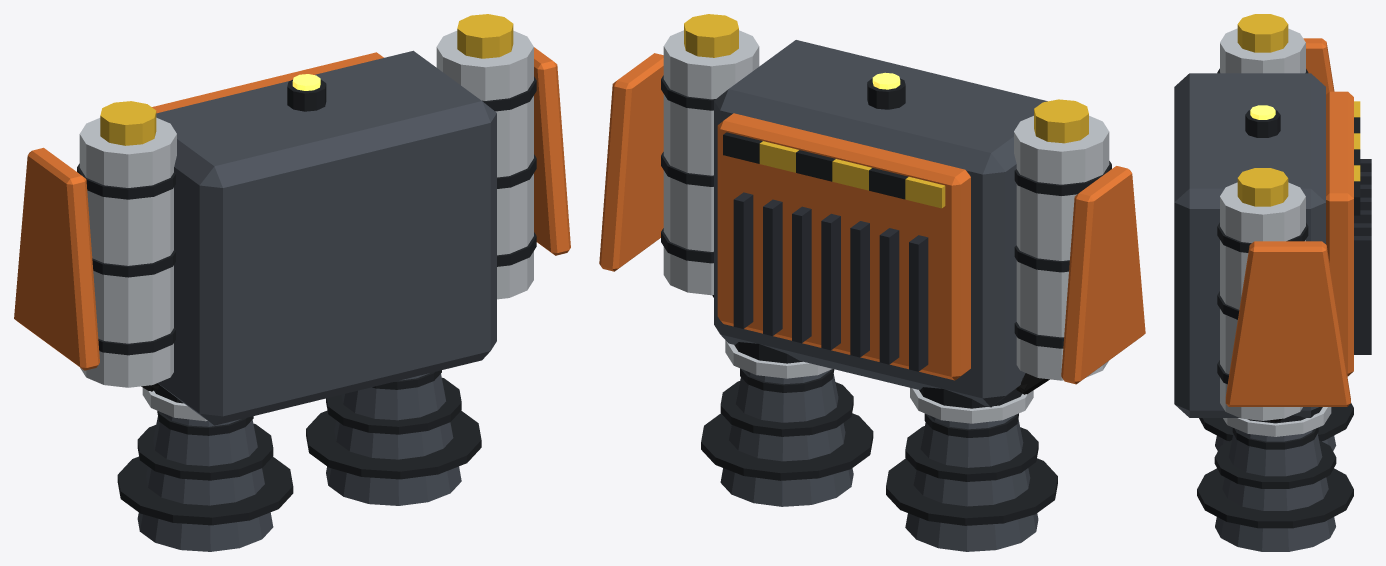
File: back_thruster_mk1.glb
3 views of the same model, side by side, from view 1: azimuth 30°, elevation 25°; view 2: azimuth 150°, elevation 25°; view 3: azimuth 270°, elevation 25° (orthographic). The views are drawn at different scales.
Parts seen in each view (by area): view 1: pack_body, fuel_tank_R, fin_R, fuel_tank_L, nozzle_R, nozzle_L, nozzle_ribs_R, nozzle_ribs_L, fin_L, fuel_tank_bands_R, fuel_tank_cap_L, fuel_tank_cap_R (+4 smaller); view 2: pack_body, armor_pack_cover, pack_fins, fin_R, fuel_tank_R, fuel_tank_L, fin_L, nozzle_L, nozzle_R, nozzle_ribs_R, nozzle_ribs_L, pack_stripe_y (+10 smaller); view 3: pack_body, fin_L, nozzle_L, nozzle_ribs_L, fuel_tank_L, armor_pack_cover, pack_fins, fuel_tank_R, fuel_tank_cap_L, fuel_tank_cap_R, nozzle_gimbal_L, nozzle_ribs_R (+6 smaller).
Boxes of the visible parts, box(x1,y1,x2,y2) form: pack_body: box(156, 50, 496, 425); fuel_tank_R: box(79, 117, 176, 387); fin_R: box(14, 147, 99, 370); fuel_tank_L: box(436, 30, 533, 299); nozzle_R: box(137, 413, 273, 551); nozzle_L: box(326, 373, 461, 505); nozzle_ribs_R: box(117, 411, 293, 525); nozzle_ribs_L: box(306, 370, 481, 479); fin_L: box(534, 47, 570, 255); fuel_tank_bands_R: box(77, 163, 175, 355); fuel_tank_cap_L: box(457, 14, 513, 58); fuel_tank_cap_R: box(100, 101, 156, 145); pack_body: box(714, 40, 1047, 407); armor_pack_cover: box(717, 113, 970, 380); pack_fins: box(733, 192, 928, 371); fin_R: box(1061, 166, 1145, 384); fuel_tank_R: box(1014, 115, 1109, 380); fuel_tank_L: box(663, 30, 759, 295); fin_L: box(599, 53, 663, 271); nozzle_L: box(720, 370, 853, 506); nozzle_R: box(905, 415, 1038, 551); nozzle_ribs_R: box(886, 413, 1057, 525); nozzle_ribs_L: box(701, 368, 873, 480); pack_stripe_y: box(759, 141, 945, 208); pack_body: box(1174, 73, 1325, 417); fin_L: box(1225, 241, 1350, 406); nozzle_L: box(1215, 430, 1335, 551); nozzle_ribs_L: box(1197, 427, 1353, 528); fuel_tank_L: box(1220, 182, 1305, 420); armor_pack_cover: box(1326, 91, 1353, 376); pack_fins: box(1354, 159, 1371, 354); fuel_tank_R: box(1220, 28, 1305, 73); fuel_tank_cap_L: box(1237, 168, 1288, 206); fuel_tank_cap_R: box(1237, 14, 1288, 52); nozzle_gimbal_L: box(1223, 407, 1331, 436); nozzle_ribs_R: box(1199, 403, 1353, 441).
Size of what is drawn, in the model's own units: 1.98 by 1.68 by 0.78.
